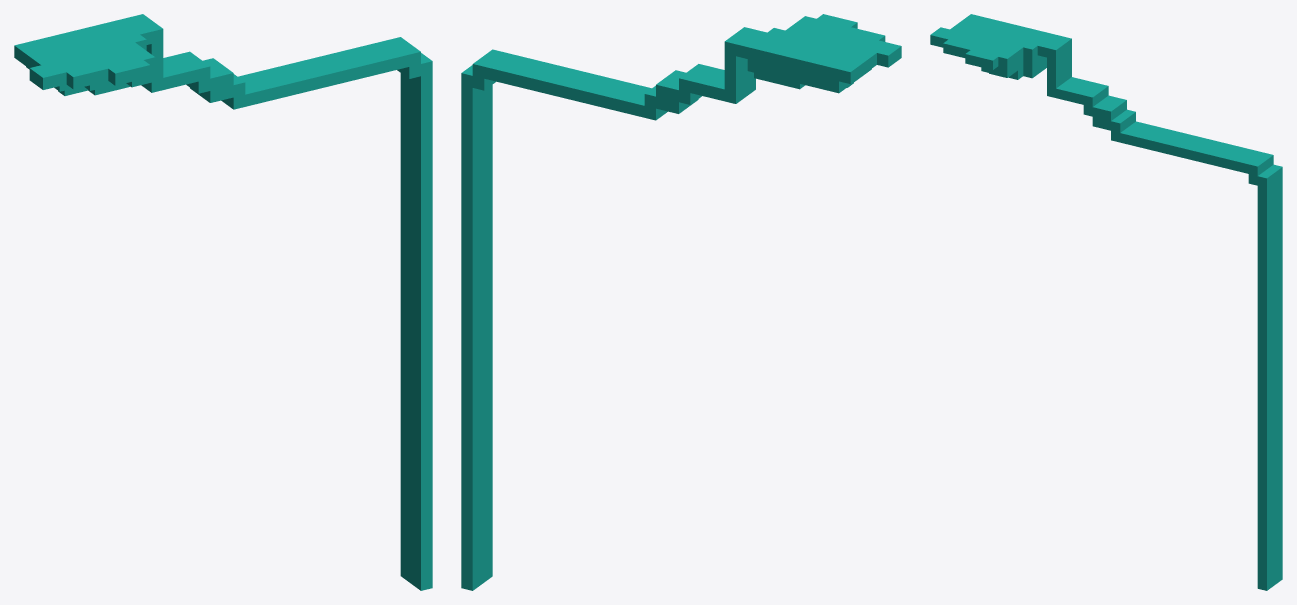
The model's file is forest_arena-1.obj.
3 renders of one model, left to right at view 1: azimuth 30°, elevation 25°; view 2: azimuth 150°, elevation 25°; view 3: azimuth 330°, elevation 25°, orthographic. The views are drawn at different scales.
Visible parts, largest first — view 1: forest_arena-1; view 2: forest_arena-1; view 3: forest_arena-1.
Part boxes in pixels (bbox=[...]): forest_arena-1: bbox=[14, 14, 432, 590]; forest_arena-1: bbox=[461, 14, 901, 590]; forest_arena-1: bbox=[930, 14, 1282, 590].
Bounding box in the file's own units: 35 × 51 × 8.
1 material, 1 textured.
